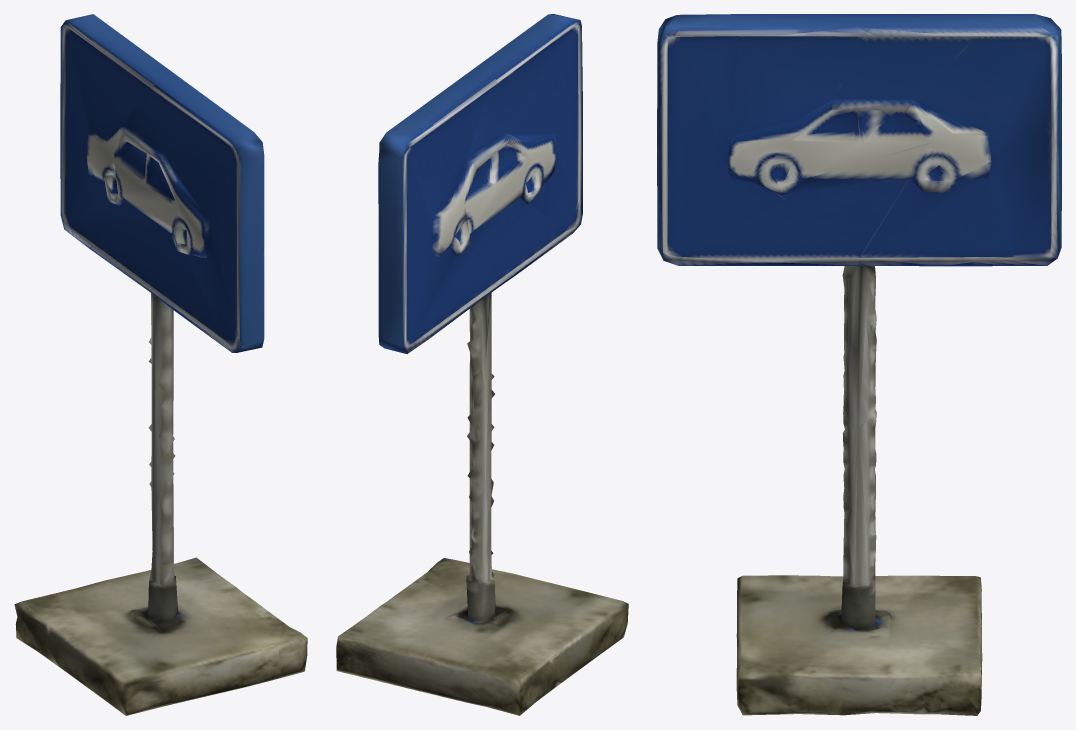
The model's file is rambu_mobil.glb.
The picture shows the model from 3 angles, left to right: view 1: azimuth 30°, elevation 25°; view 2: azimuth 150°, elevation 25°; view 3: azimuth 270°, elevation 25°; orthographic projection. The views are drawn at different scales.
Visible parts, largest first — view 1: tripo_node_99aa548f; view 2: tripo_node_99aa548f; view 3: tripo_node_99aa548f.
Boxes of the visible parts, box(x1,y1,x2,y2) form: tripo_node_99aa548f: box(14, 14, 307, 715); tripo_node_99aa548f: box(336, 14, 628, 715); tripo_node_99aa548f: box(657, 14, 1061, 715).
Size of the model in its own units: 33.73 by 99.98 by 56.71.
1 material, 1 textured.
